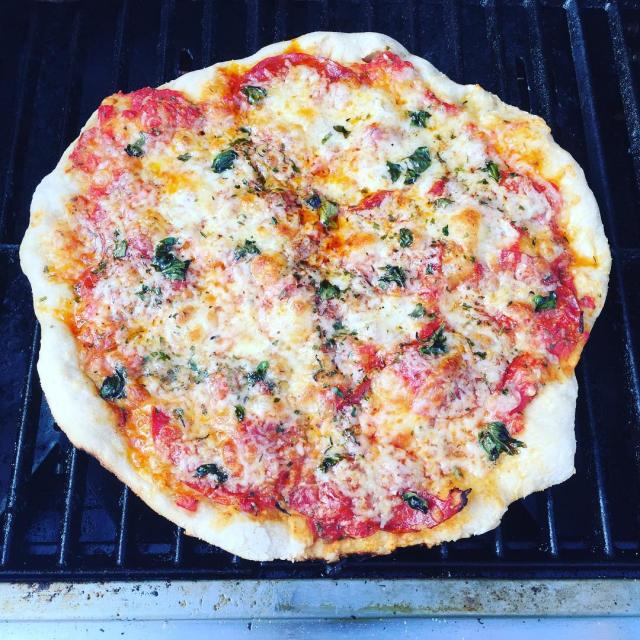pizza: (16, 24, 616, 566)
